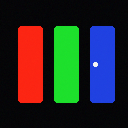0 point: (93, 62, 97, 66)
